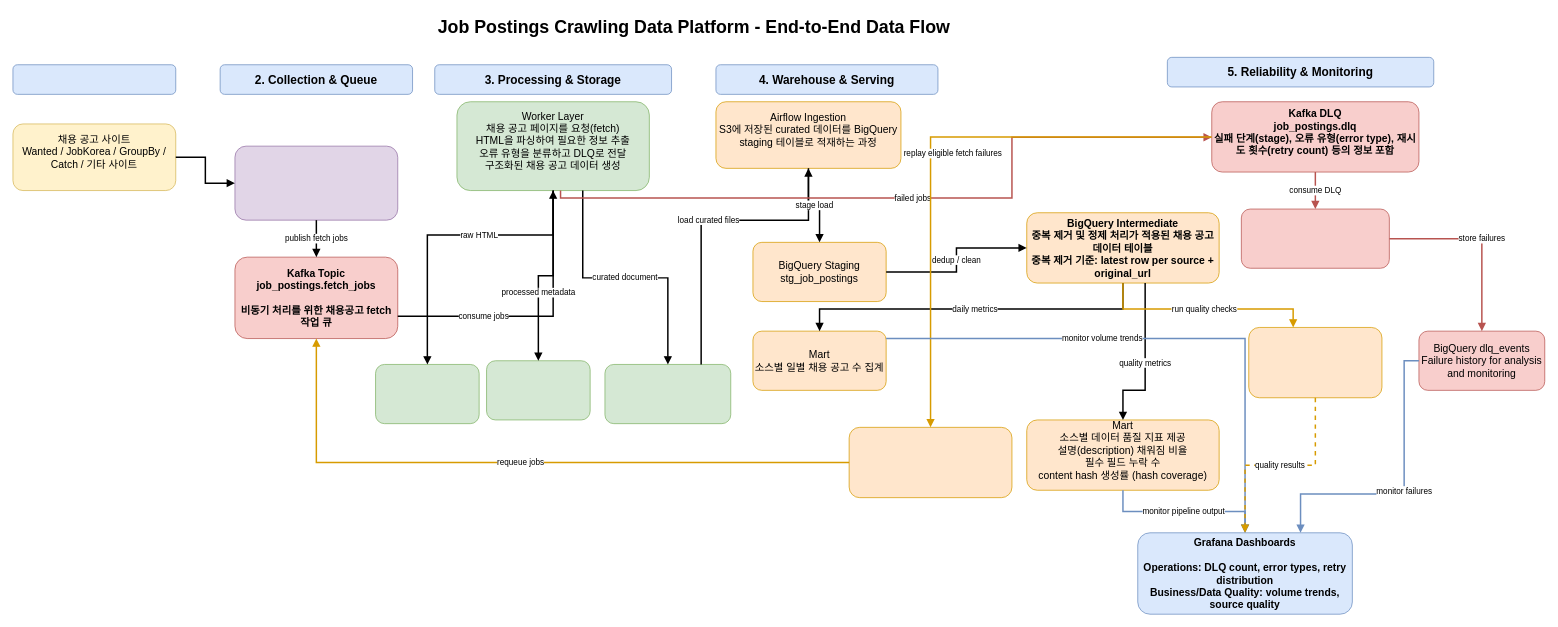
Some shapes in this 1558 by 627 pixel diagram are drawn without their labels. The shapes that lost their labels are listed below. From the top down, each one's centre as x and y in pixels, then its label:
point 94,79: 1. Data Sources
point 316,182: 수집 레이어 채용 공고 페이지를 크롤링 하기 위한 fetch job을 생성
point 1315,238: DLQ Consumer Writes failure records to BigQuery
point 1315,362: Airflow 품질 검증 Staging not empty, clean layer integrity, quality thresholds
point 427,394: S3 Raw Original HTML pages
point 538,390: S3 Processed Metadata + fetch info (메타데이터)
point 667,394: 분석 및 데이터 웨어하우스 적재용 최종 데이터
point 930,462: Airflow Replay DAG 재처리 가능한(fetch 실패) 작업을 선별 원래의 fetch 큐로 다시 전송 (재시도)
